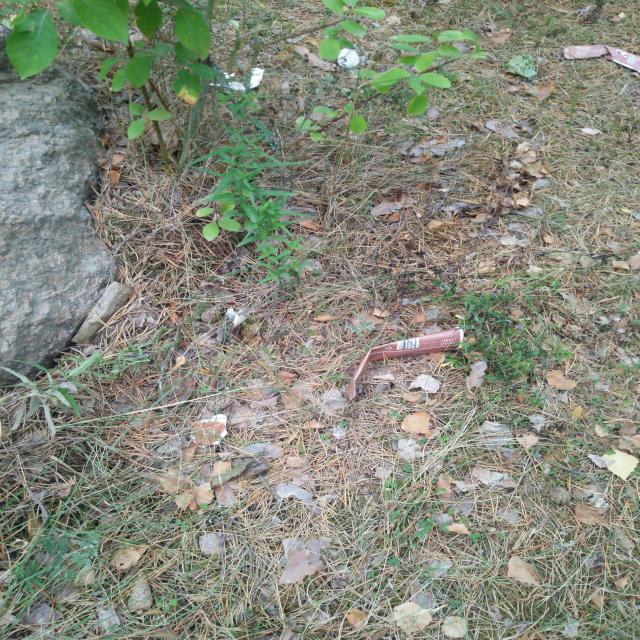Meal carton: (344, 327, 462, 400), (564, 45, 640, 73)
Unlabeled litter: (210, 68, 263, 92)
